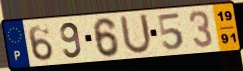3: (188, 8, 215, 50)
5: (156, 11, 186, 51)
6: (92, 16, 122, 58), (27, 23, 55, 62)
9: (59, 21, 83, 59)
U: (118, 12, 154, 56)
